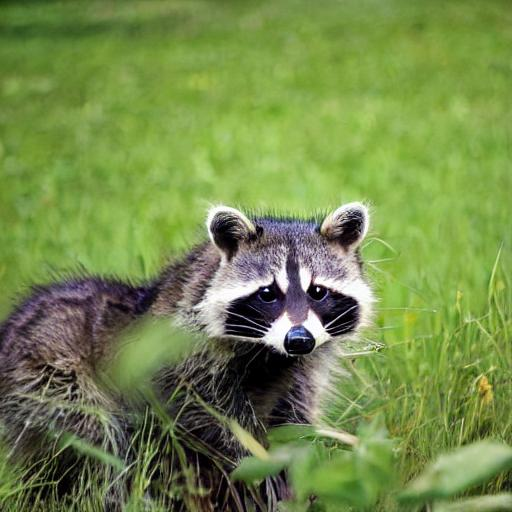raccoon: (0, 192, 391, 512)
